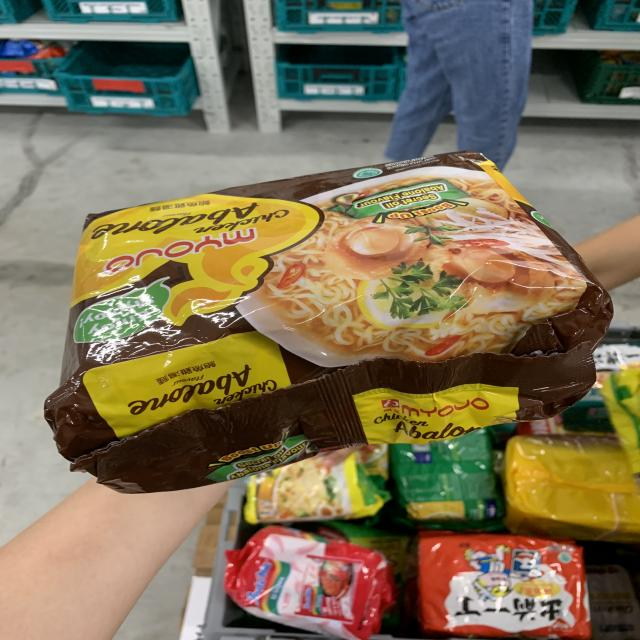object_name: (73, 197, 569, 428)
